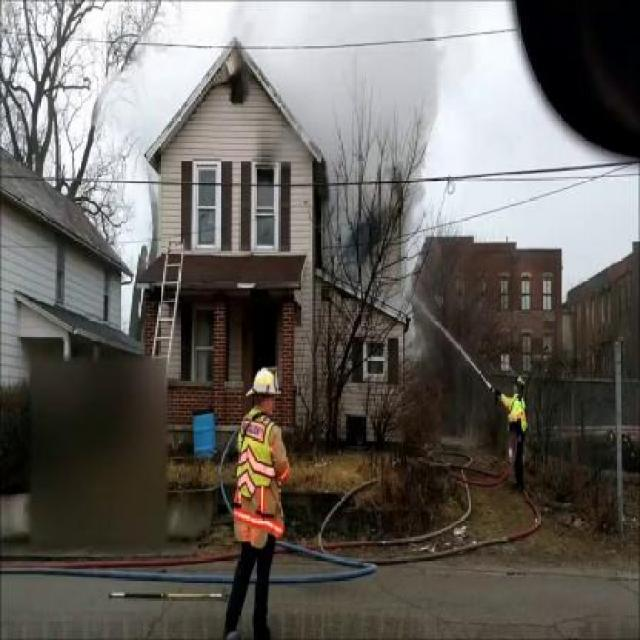smoke: (303, 18, 452, 376), (216, 4, 450, 182)
